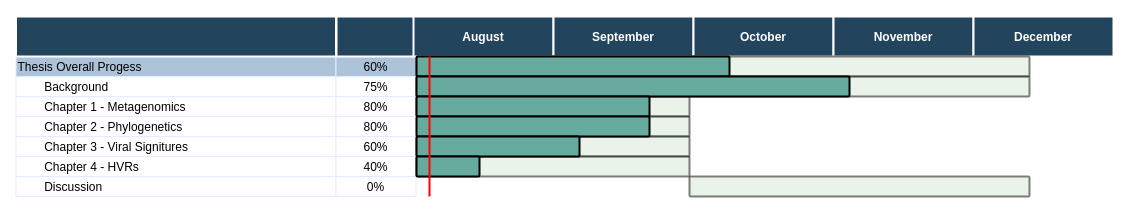
This 1130x213 diagram has some shape labels left out. The box of each missing label's shape, as (x1, y1, x2, y2) in pixels:
Progress: (335, 15, 420, 57)
Task Name: (14, 15, 336, 57)
